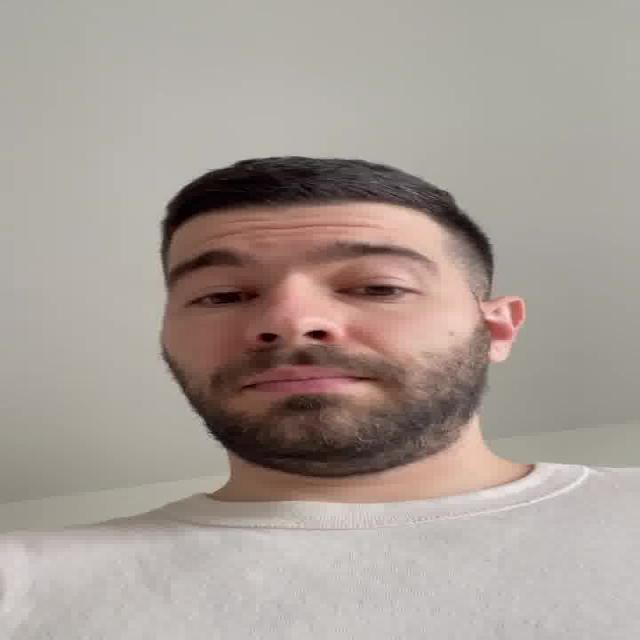earlobe: (483, 346, 515, 366)
eye: (180, 288, 263, 307), (332, 282, 415, 300)
nose: (249, 335, 347, 366)
wholeear: (482, 296, 529, 363)
